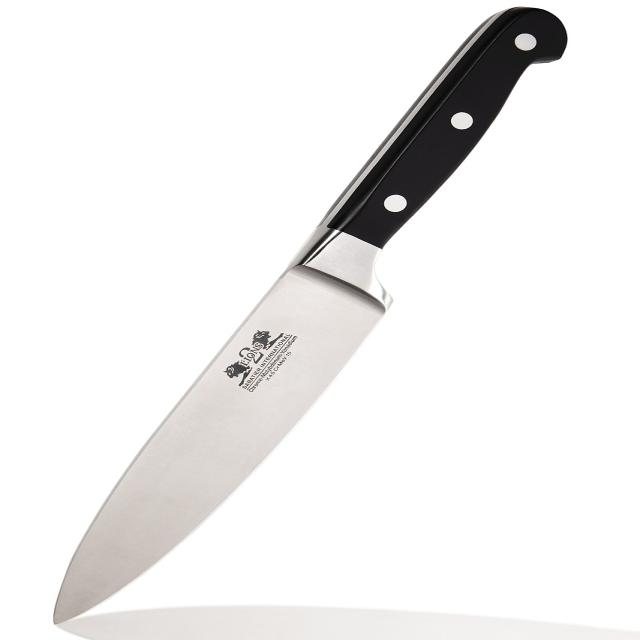Knife: (54, 7, 566, 623)
